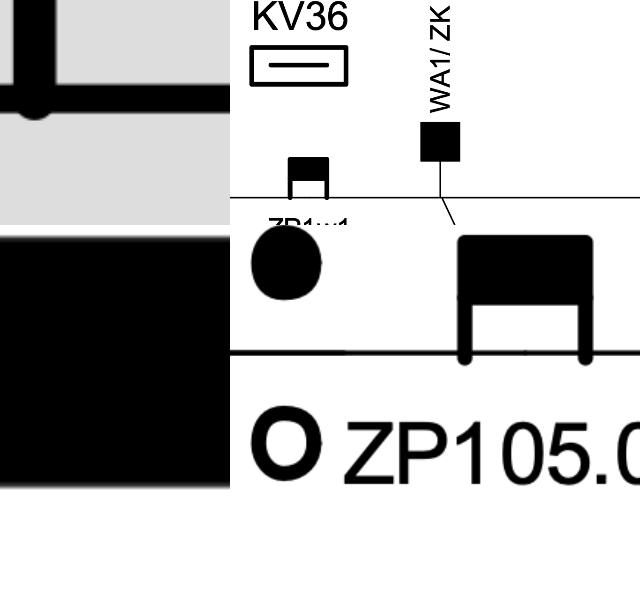radzaehler: (0, 225, 230, 609), (0, 0, 230, 157), (451, 230, 614, 387), (280, 150, 340, 206)
weiche: (418, 118, 462, 216)
